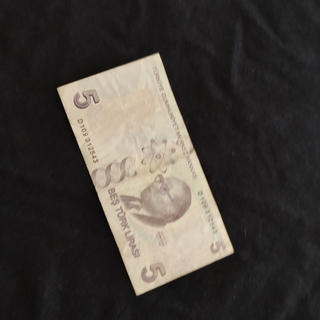5TLBack: (54, 49, 237, 297)
